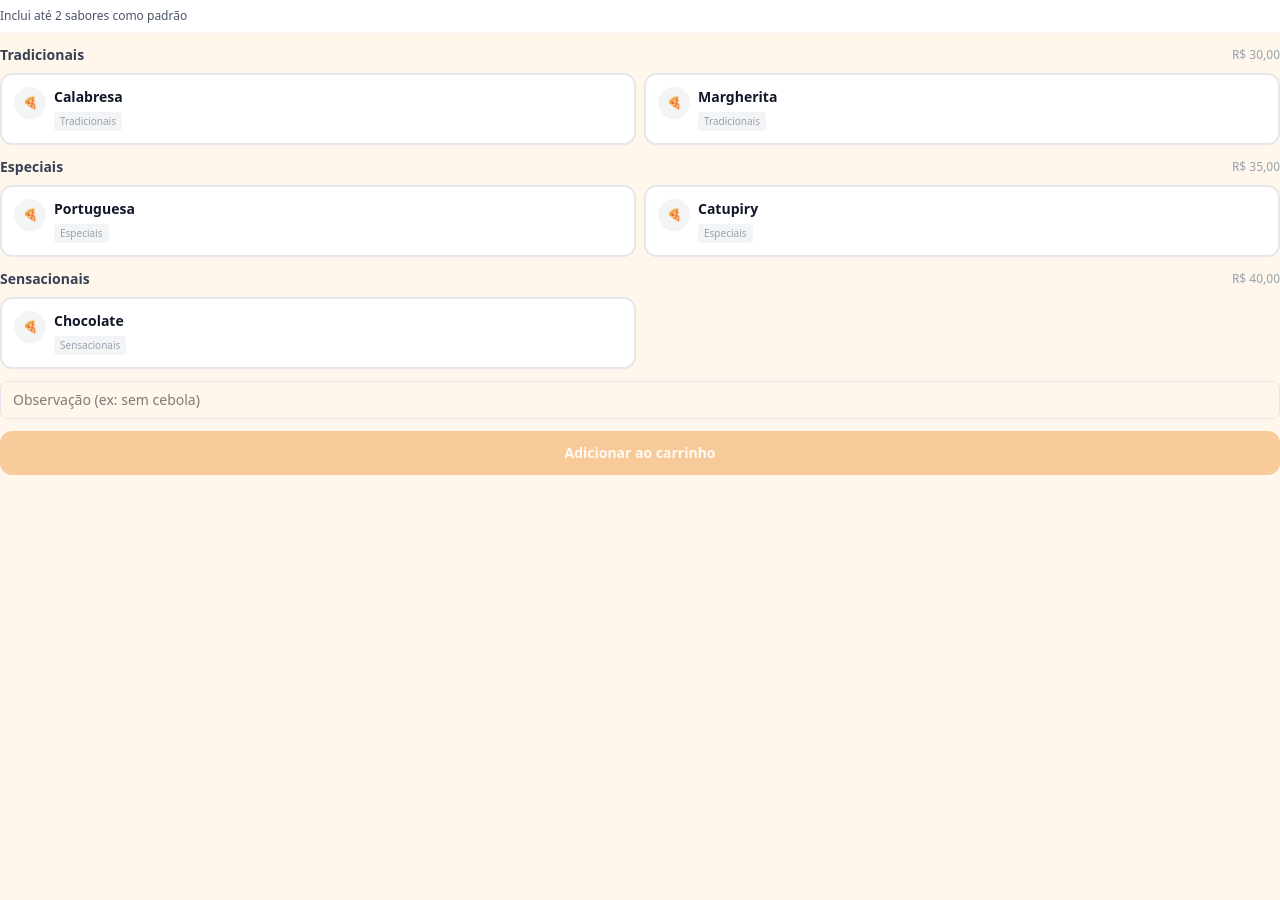
FlavorSelector — US1: confirmação explícita do 3º sabor (NAD-8) › com 2 sabores selecionados, tocar num 3º abre o modal sem aplicar a seleção (FR-002/FR-003)
Click the button "🍕 Calabresa Tradicionais".
click(30, 103)  # box [0,73,636,145]
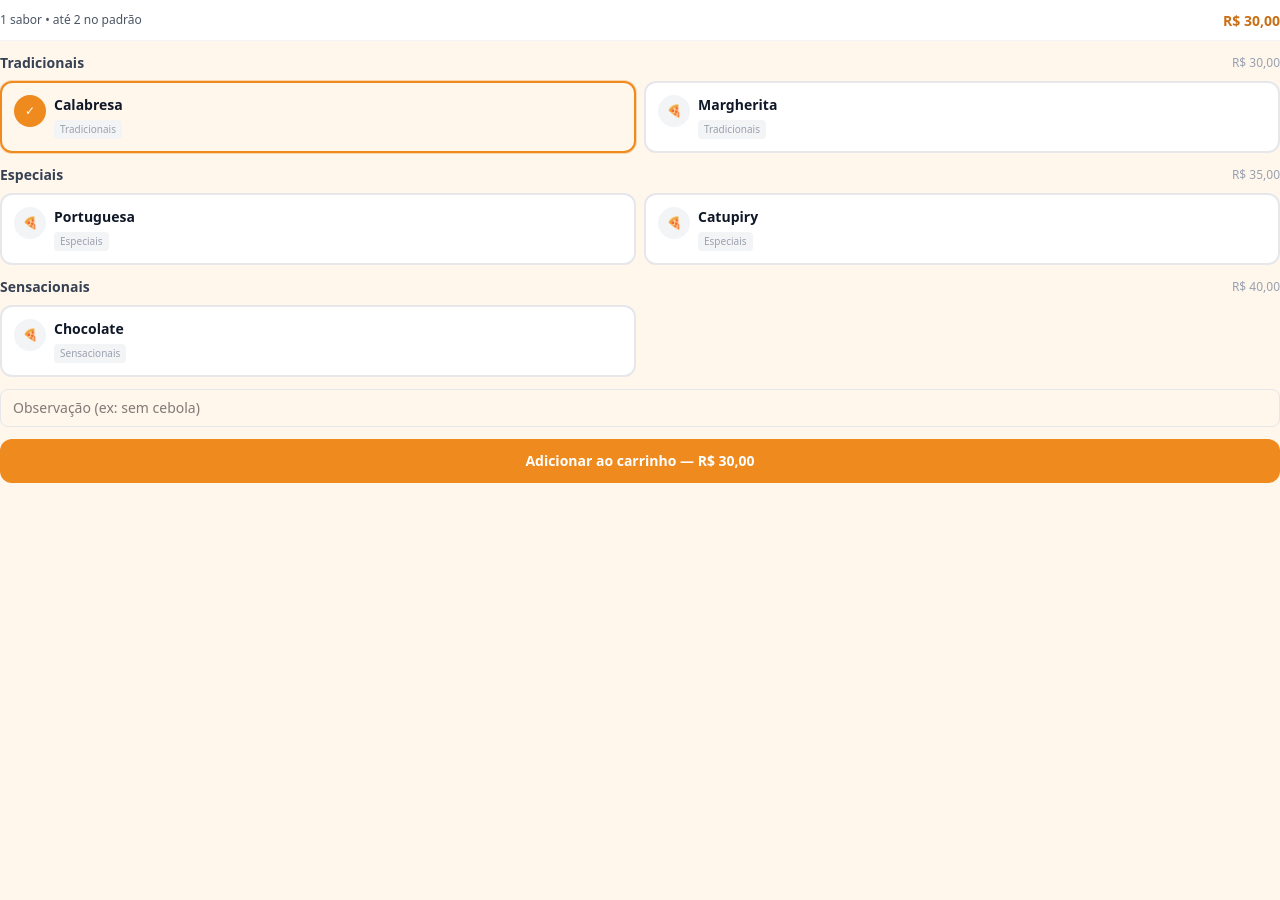
Click the button "🍕 Margherita Tradicionais".
click(674, 111)  # box [644,81,1279,153]
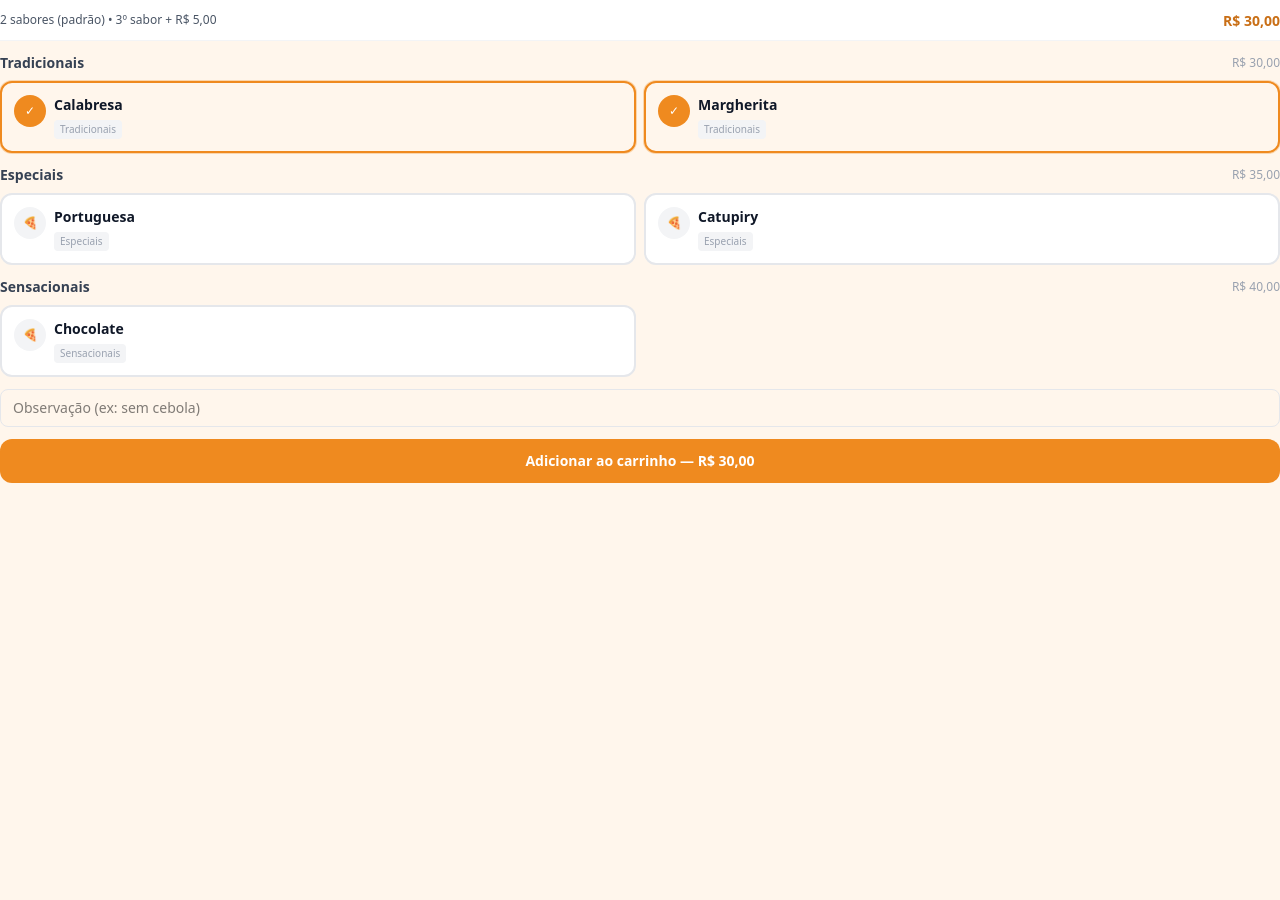
Click the button "🍕 Portuguesa Especiais".
click(30, 223)  # box [0,193,636,265]
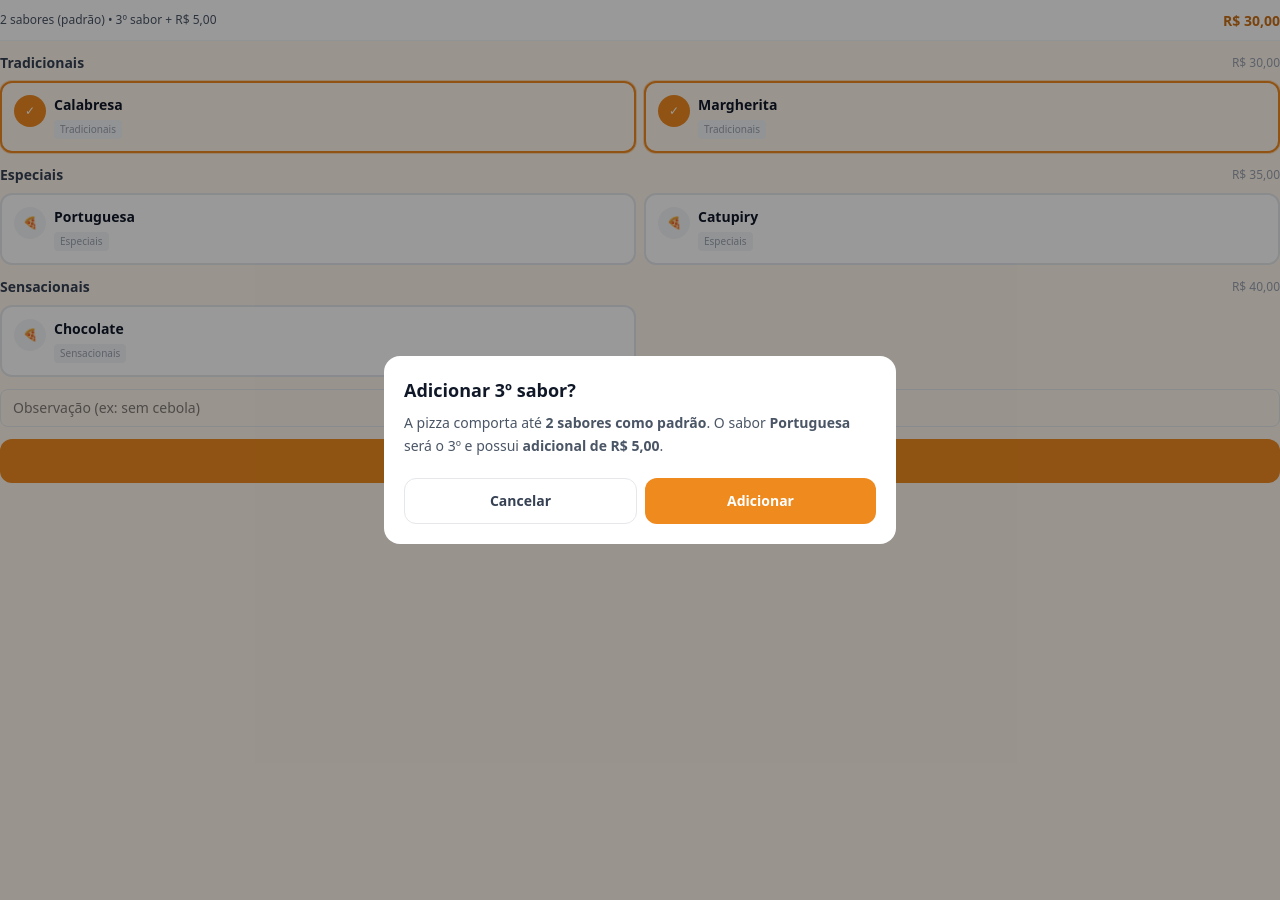
Check: the text "R$ 30,00" is shown, box [1223,11,1279,30]
Check: the text "Portuguesa" is shown, box [770,413,850,432]
